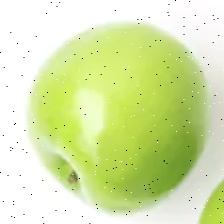apple: (45, 32, 216, 206)
